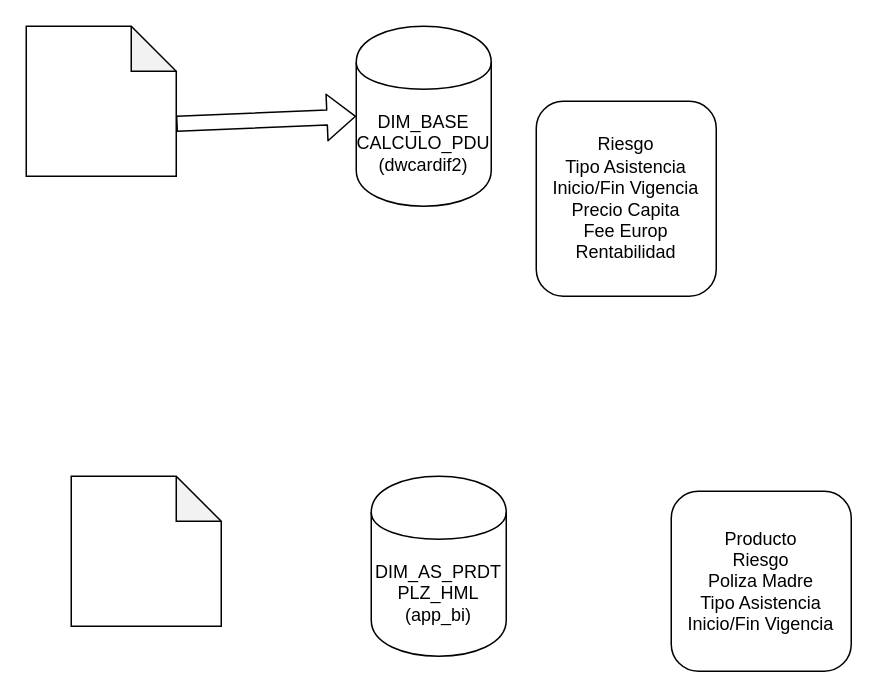
Some shapes in this 878 by 698 pixel diagram are drawn without their labels. The shapes that lost their labels are listed below. From the top down, each one's box as (x1, y1, x2, y2) in pixels, then its label:
(25, 25, 176, 176): Base Calculo PDU.txt
(70, 475, 221, 626): Asistencia Producto Poliza Homologacion.csv
